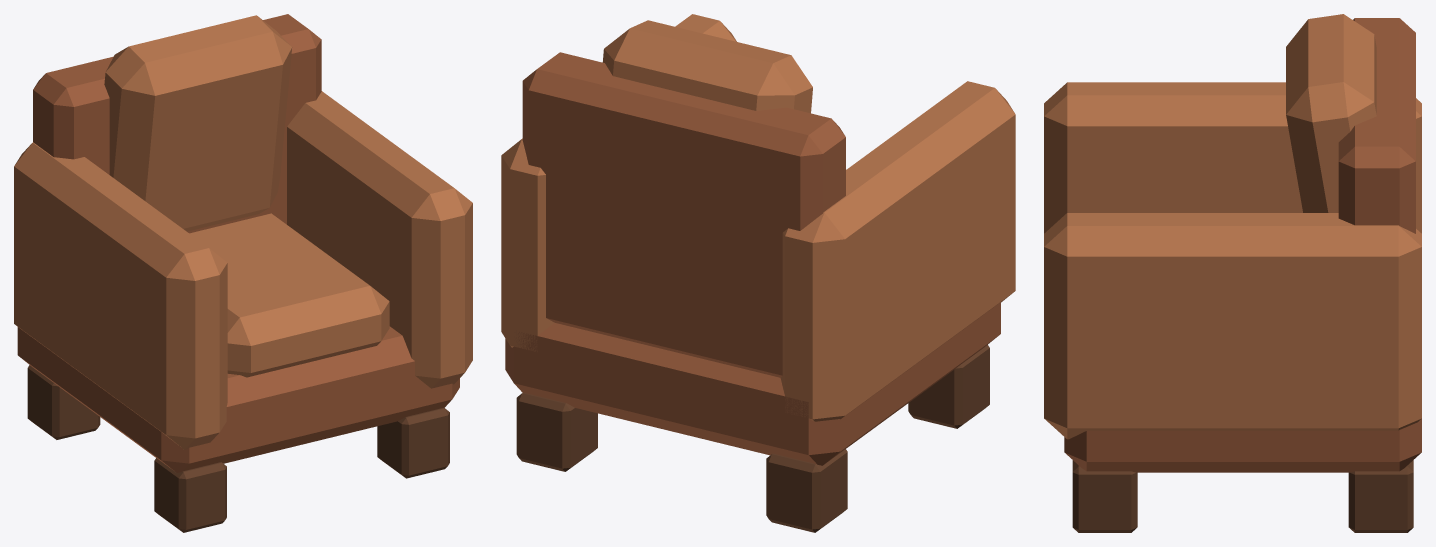
Rendered from Armchair.fbx.
3 renders of one model, left to right at view 1: azimuth 30°, elevation 25°; view 2: azimuth 150°, elevation 25°; view 3: azimuth 270°, elevation 25°, orthographic. The views are drawn at different scales.
Visible parts, largest first — view 1: Body; view 2: Body; view 3: Body.
Boxes of the visible parts, x1,y1,x2,y2 form: Body: (14, 14, 472, 532); Body: (501, 14, 1015, 532); Body: (1044, 14, 1421, 532).
Bounding box in the file's own units: 0.95 × 1.13 × 0.93.
